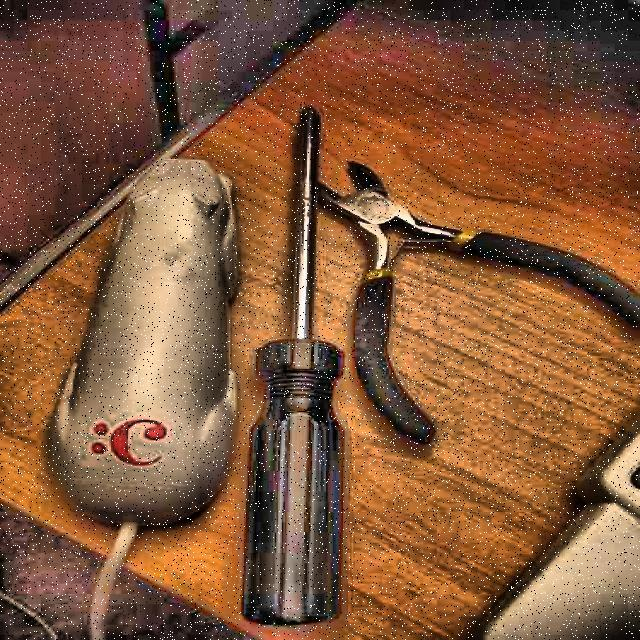screwdriver: (236, 107, 352, 628)
